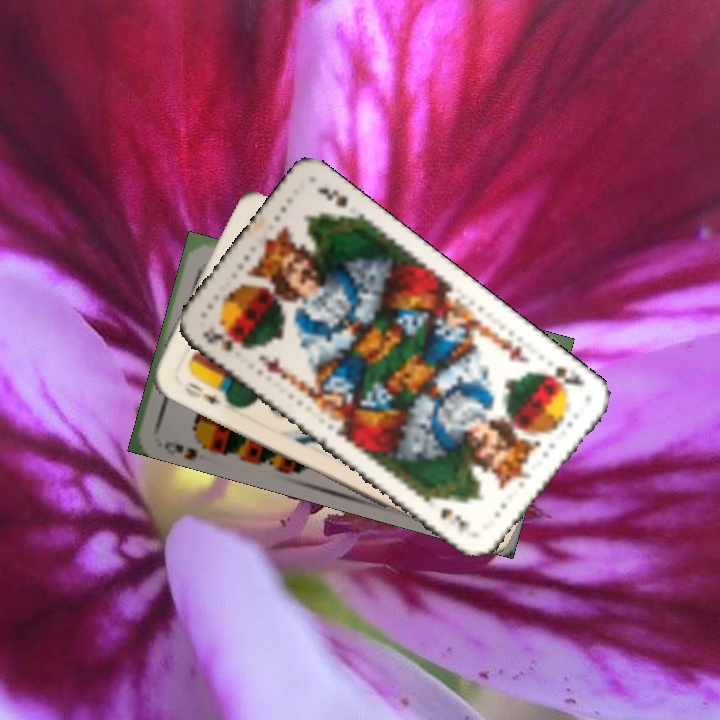EO: (179, 377, 224, 407)
S9: (160, 433, 215, 456)
SK: (538, 361, 588, 395), (199, 324, 241, 355)
